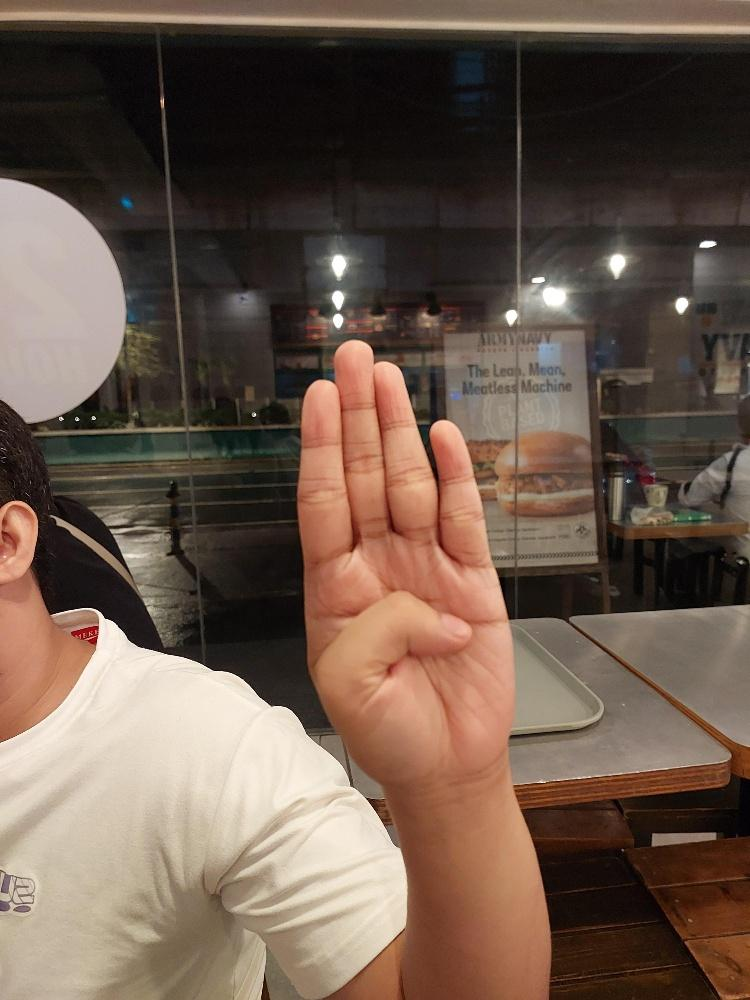b: (294, 336, 517, 791)
